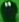black: (0, 0, 19, 22)
